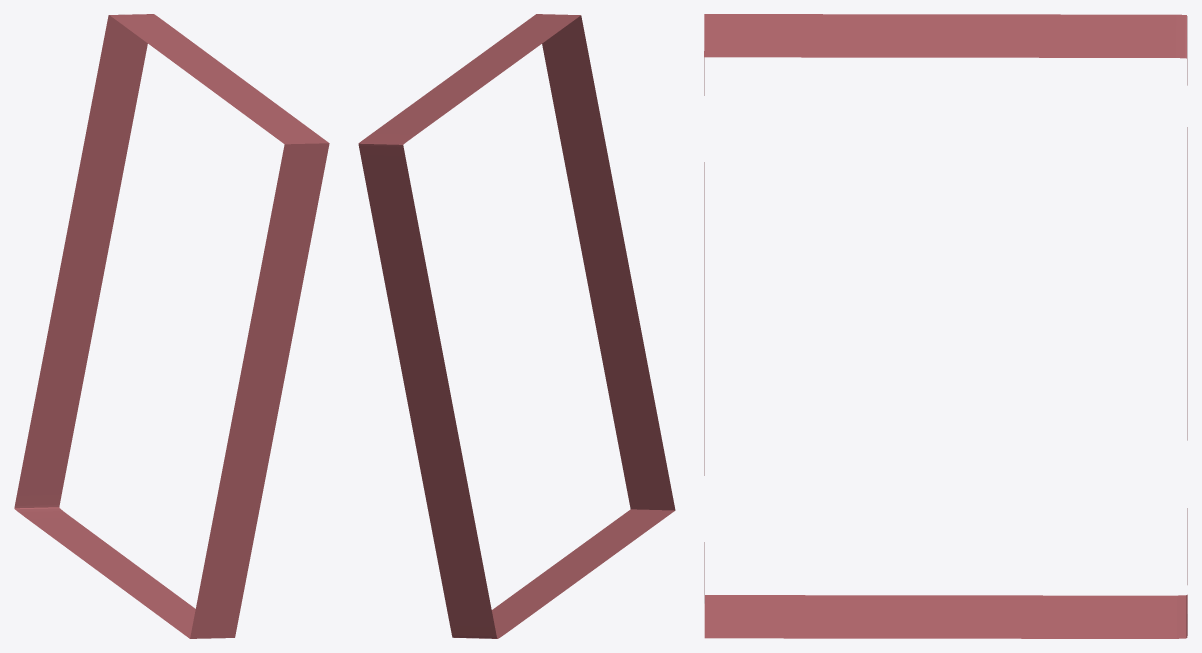
Rendered from object_119_lev1.glb.
3 views of the same model, side by side, from view 1: azimuth 30°, elevation 25°; view 2: azimuth 150°, elevation 25°; view 3: azimuth 270°, elevation 25° (orthographic). The views are drawn at different scales.
Parts seen in each view (by area): view 1: object_119_lev1; view 2: object_119_lev1; view 3: object_119_lev1.
Boxes of the visible parts, x1,y1,x2,y2 form: object_119_lev1: [14, 14, 329, 638]; object_119_lev1: [358, 14, 675, 638]; object_119_lev1: [704, 14, 1187, 638].
Size of the model in its own units: 0.07 by 0.2295 by 0.1531.
